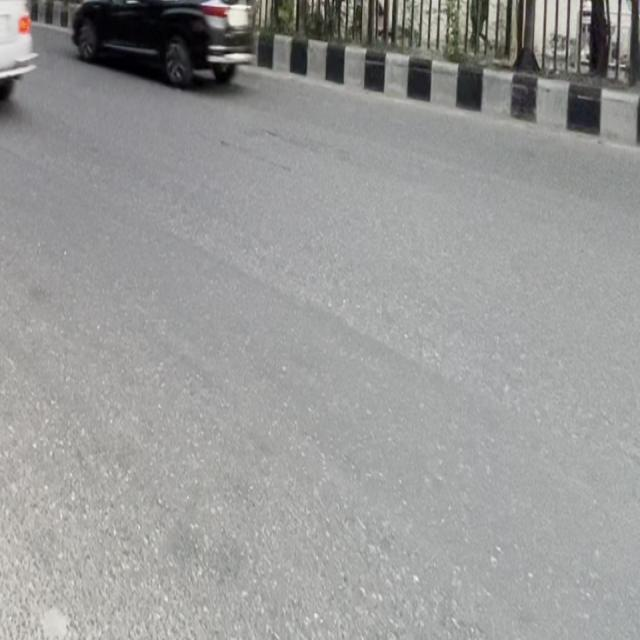car: (61, 0, 274, 98), (0, 0, 56, 133)
